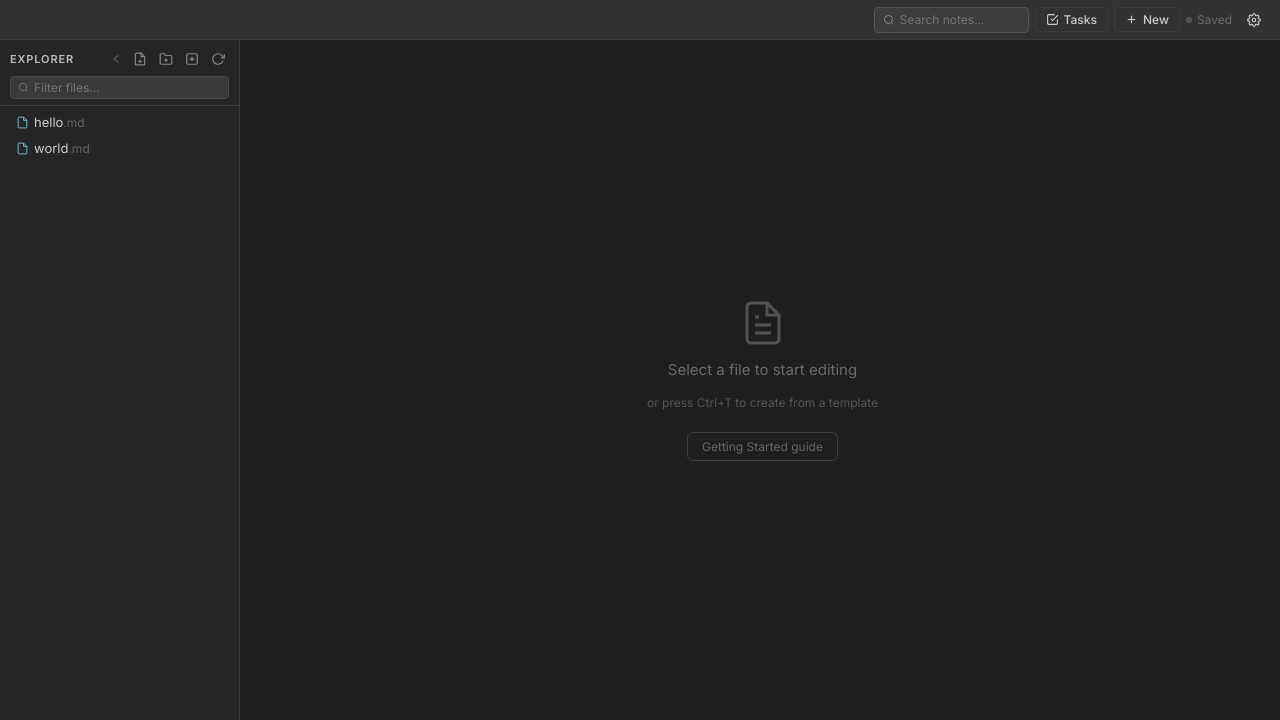
Test case: App › search › clears search query when × button is clicked
Type "test" into the field with placeholder "Search notes..." at (960, 20), box [900,12,1020,27]
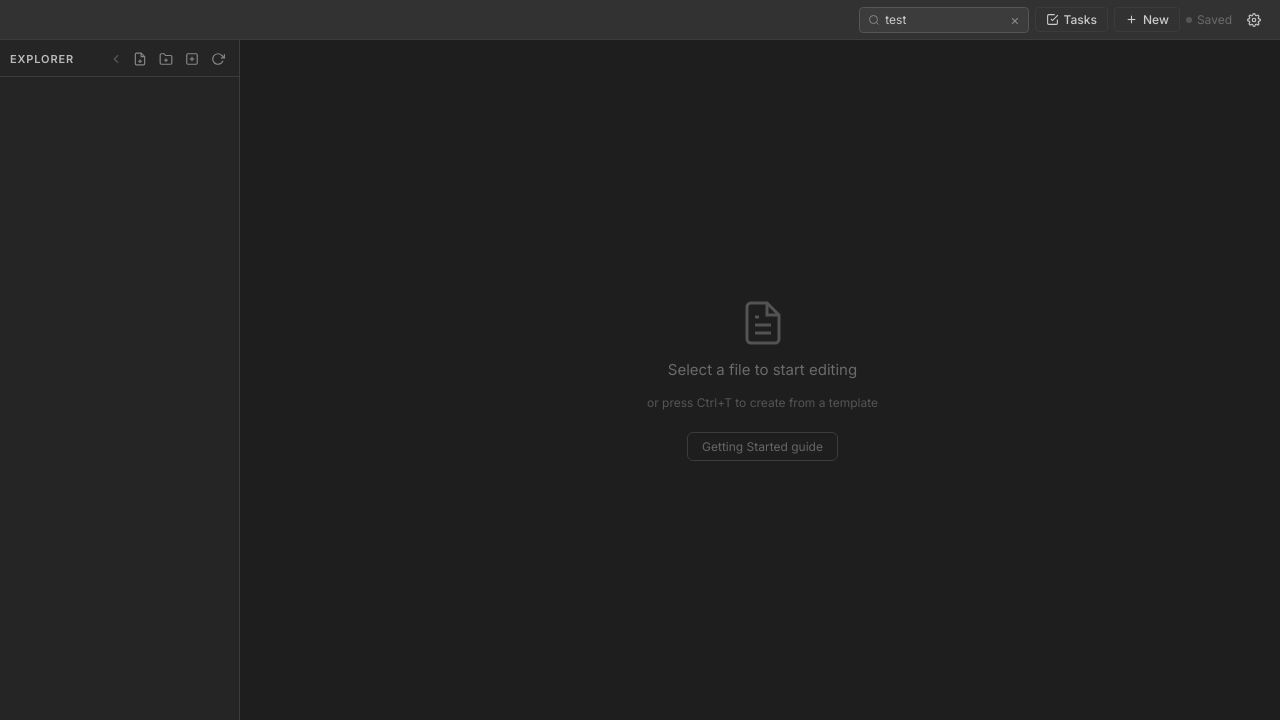
// Find the × within the toolbar search box specifically
Click the button "×" at (1015, 20), box [1010,12,1020,26]
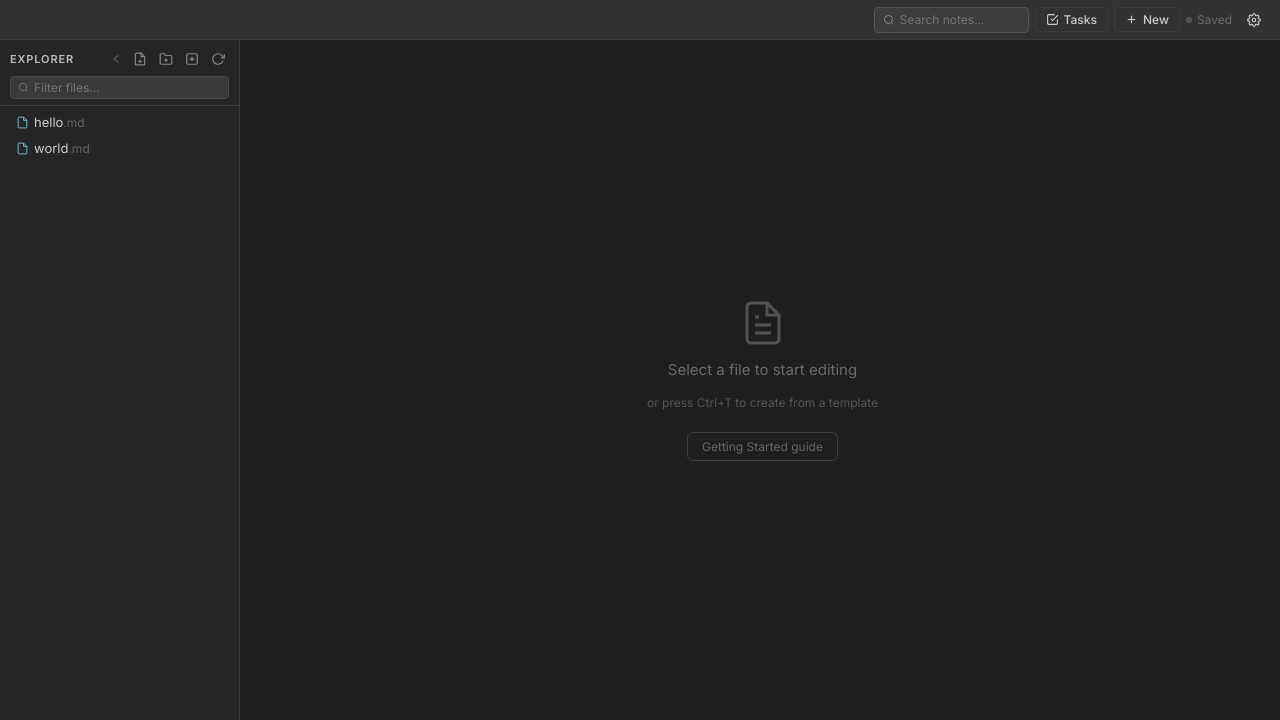
Check: the field with placeholder "Search notes..." is empty, box [900,12,1020,27]
